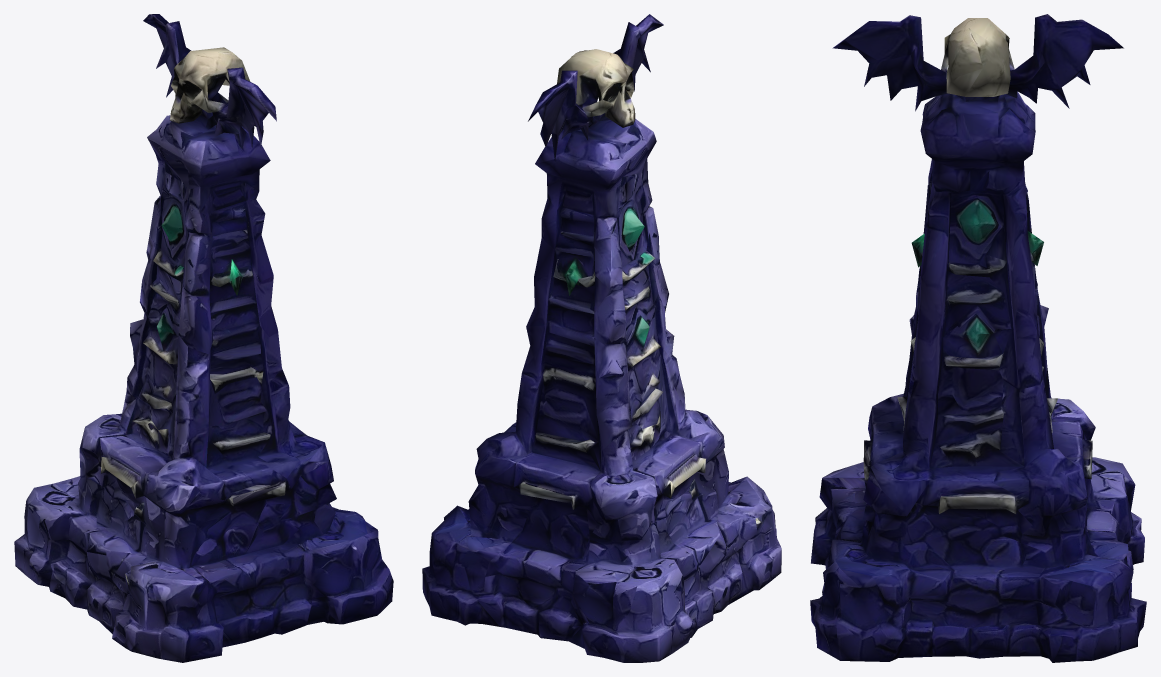
The model's file is Necromantic_Obelisk_LOD1.glb.
The picture shows the model from 3 angles, left to right: view 1: azimuth 30°, elevation 25°; view 2: azimuth 150°, elevation 25°; view 3: azimuth 270°, elevation 25°; orthographic projection. The views are drawn at different scales.
Visible parts, largest first — view 1: Necromantic_Obelisk_LOD1; view 2: Necromantic_Obelisk_LOD1; view 3: Necromantic_Obelisk_LOD1.
Part boxes in pixels (bbox=[...]): Necromantic_Obelisk_LOD1: bbox=[14, 14, 393, 662]; Necromantic_Obelisk_LOD1: bbox=[422, 14, 781, 662]; Necromantic_Obelisk_LOD1: bbox=[810, 14, 1146, 662].
Bounding box in the file's own units: 1.43 × 2.8 × 1.47.
1 material, 1 textured.
